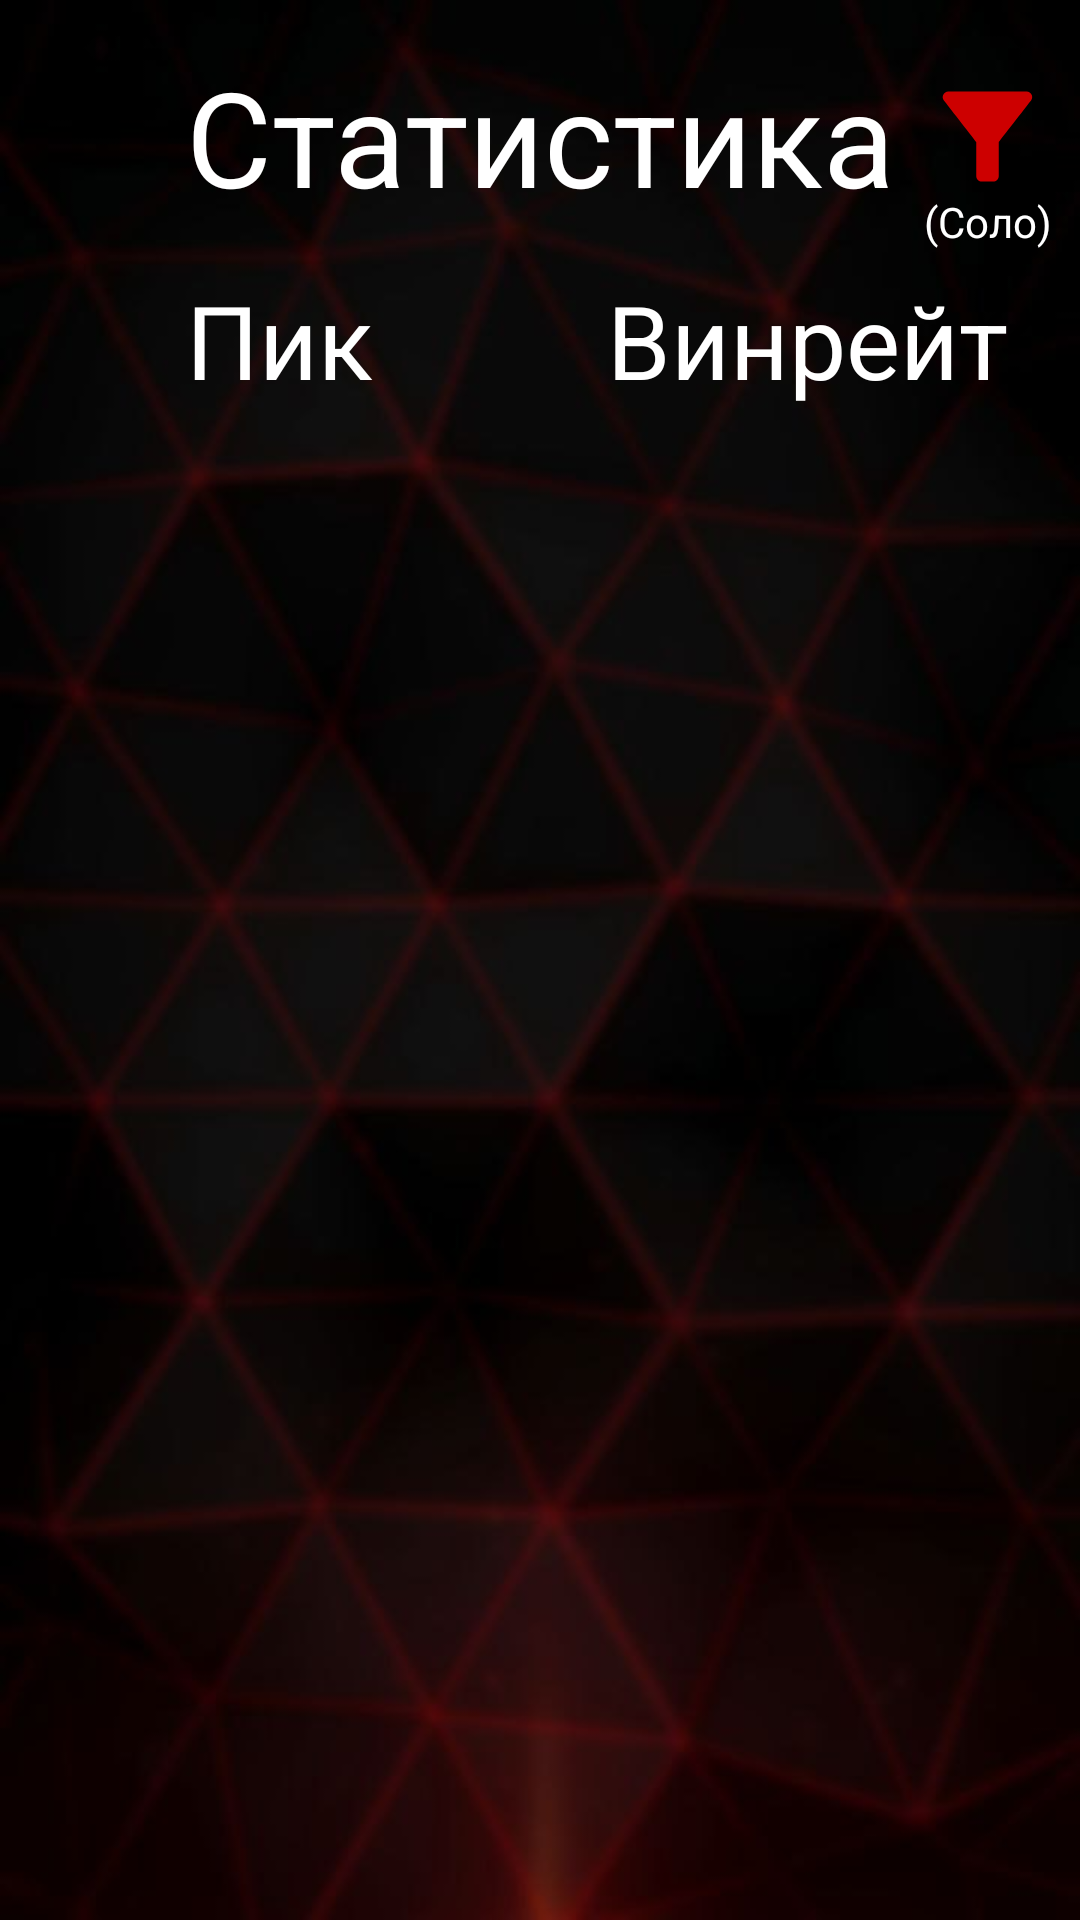

Icons on this 1080×1920 Android screen, each with its box as (x1, y1, x2, y2):
filter: (942, 91, 1032, 182)
